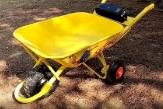BROUETTE: (12, 2, 158, 105)
